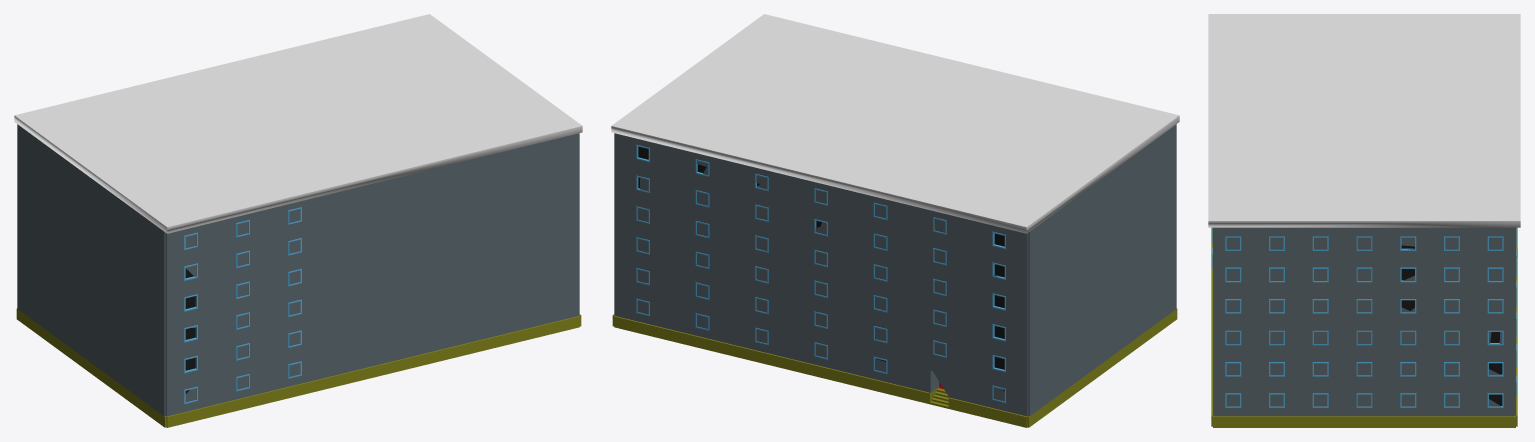
File: BCL40_F06_02.fbx
3 views of the same model, side by side, from view 1: azimuth 30°, elevation 25°; view 2: azimuth 150°, elevation 25°; view 3: azimuth 270°, elevation 25° (orthographic). The views are drawn at different scales.
Parts seen in each view (by area): view 1: BCL40_F06_02; view 2: BCL40_F06_02; view 3: BCL40_F06_02.
Part boxes in pixels (<box>): BCL40_F06_02: <box>14,14,582,427</box>; BCL40_F06_02: <box>611,14,1179,427</box>; BCL40_F06_02: <box>1208,14,1520,427</box>.
Bounding box in the file's own units: 4010 × 1860 × 2550.
